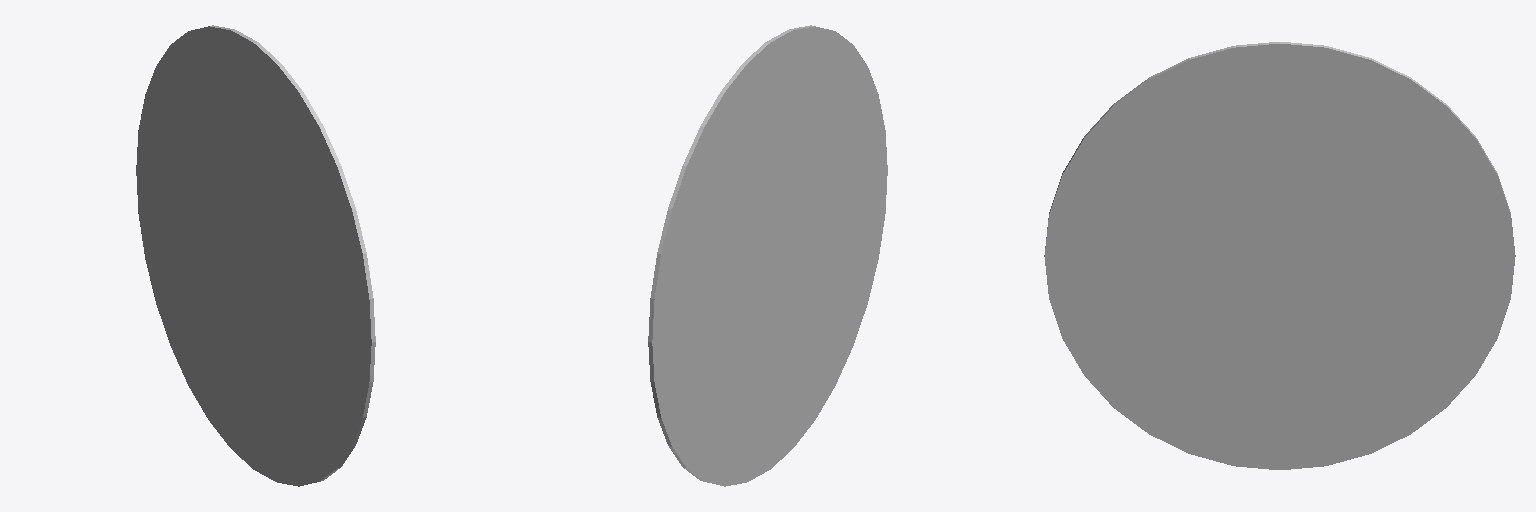
The model's file is blackCircle.obj.
3 renders of one model, left to right at view 1: azimuth 30°, elevation 25°; view 2: azimuth 150°, elevation 25°; view 3: azimuth 270°, elevation 25°, orthographic.
Parts seen in each view (by area): view 1: 円柱; view 2: 円柱; view 3: 円柱.
Part boxes in pixels (left/top/right/bottom): 円柱: left=136, top=25, right=375, bottom=486; 円柱: left=648, top=25, right=887, bottom=486; 円柱: left=1044, top=42, right=1515, bottom=469.
Bounding box in the file's own units: 0.1 × 10 × 10.